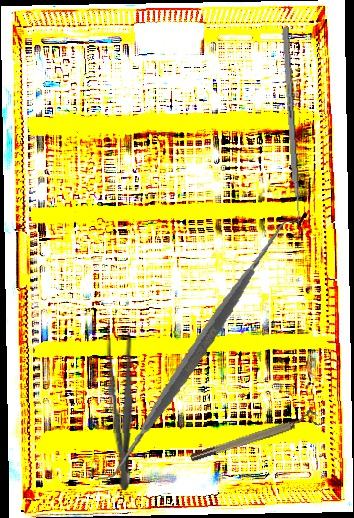Dressing Forceps: (102, 318, 141, 491)
Fixation Ring: (187, 407, 321, 465)
Pusher: (281, 27, 304, 238)
Spatula Surgical: (70, 220, 324, 481)
